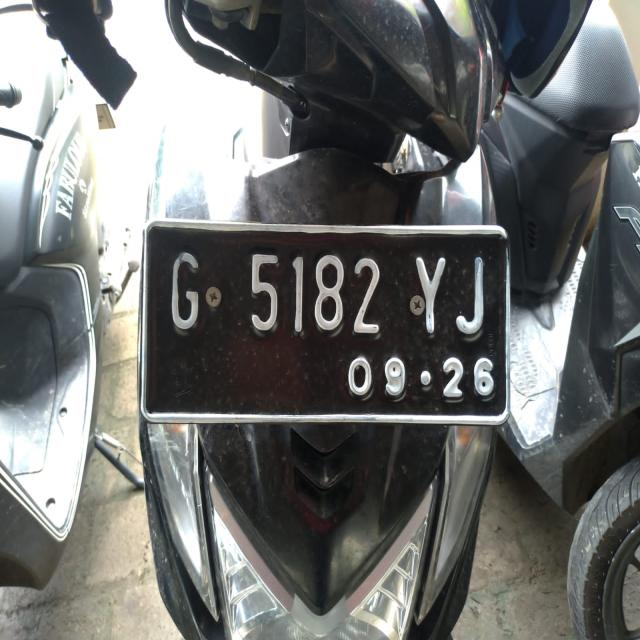plate: (144, 223, 506, 420)
